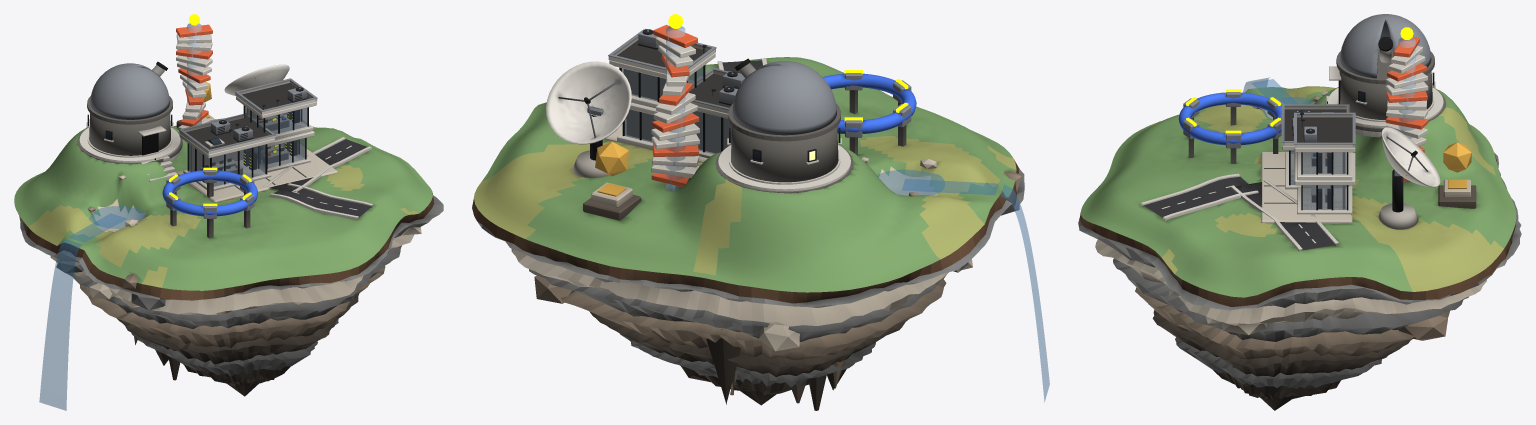
File: research.glb
3 views of the same model, side by side, from view 1: azimuth 30°, elevation 25°; view 2: azimuth 150°, elevation 25°; view 3: azimuth 270°, elevation 25° (orthographic). The views are drawn at different scales.
Visible parts, largest first — view 1: terrain, foundation, buildings, props, waterfall_0, anim_spin_dome, landmarks, anim_spin_dish, water_pond0, water_channel0; view 2: terrain, foundation, buildings, anim_spin_dome, anim_spin_dish, props, landmarks, waterfall_0, water_pond0, water_channel0, anim_spin_monument_ico; view 3: terrain, foundation, buildings, props, landmarks, anim_spin_dome, anim_spin_dish, anim_spin_monument_ico, water_channel0.
Boxes of the visible parts, bbox=[...] form: terrain: bbox=[14, 118, 432, 290]; foundation: bbox=[18, 193, 443, 396]; buildings: bbox=[87, 23, 317, 190]; props: bbox=[86, 14, 357, 226]; waterfall_0: bbox=[39, 239, 81, 410]; anim_spin_dome: bbox=[90, 61, 169, 119]; landmarks: bbox=[162, 170, 257, 238]; anim_spin_dish: bbox=[224, 64, 289, 95]; water_pond0: bbox=[88, 206, 144, 228]; water_channel0: bbox=[68, 214, 126, 242]; terrain: bbox=[474, 57, 1016, 292]; foundation: bbox=[472, 159, 1024, 410]; buildings: bbox=[572, 24, 840, 220]; anim_spin_dome: bbox=[732, 58, 836, 135]; anim_spin_dish: bbox=[546, 61, 631, 144]; props: bbox=[608, 14, 936, 196]; landmarks: bbox=[823, 73, 916, 155]; waterfall_0: bbox=[1001, 184, 1049, 402]; water_pond0: bbox=[877, 169, 945, 195]; water_channel0: bbox=[902, 179, 998, 195]; anim_spin_monument_ico: bbox=[595, 142, 628, 176]; terrain: bbox=[1081, 86, 1516, 297]; foundation: bbox=[1078, 152, 1521, 410]; buildings: bbox=[1282, 36, 1476, 229]; props: bbox=[1161, 27, 1435, 243]; landmarks: bbox=[1178, 92, 1283, 163]; anim_spin_dome: bbox=[1340, 14, 1431, 78]; anim_spin_dish: bbox=[1381, 127, 1440, 187]; anim_spin_monument_ico: bbox=[1443, 142, 1471, 172]; water_channel0: bbox=[1251, 79, 1297, 103].
Bounding box in the file's own units: 16.63 × 14.04 × 14.57.
